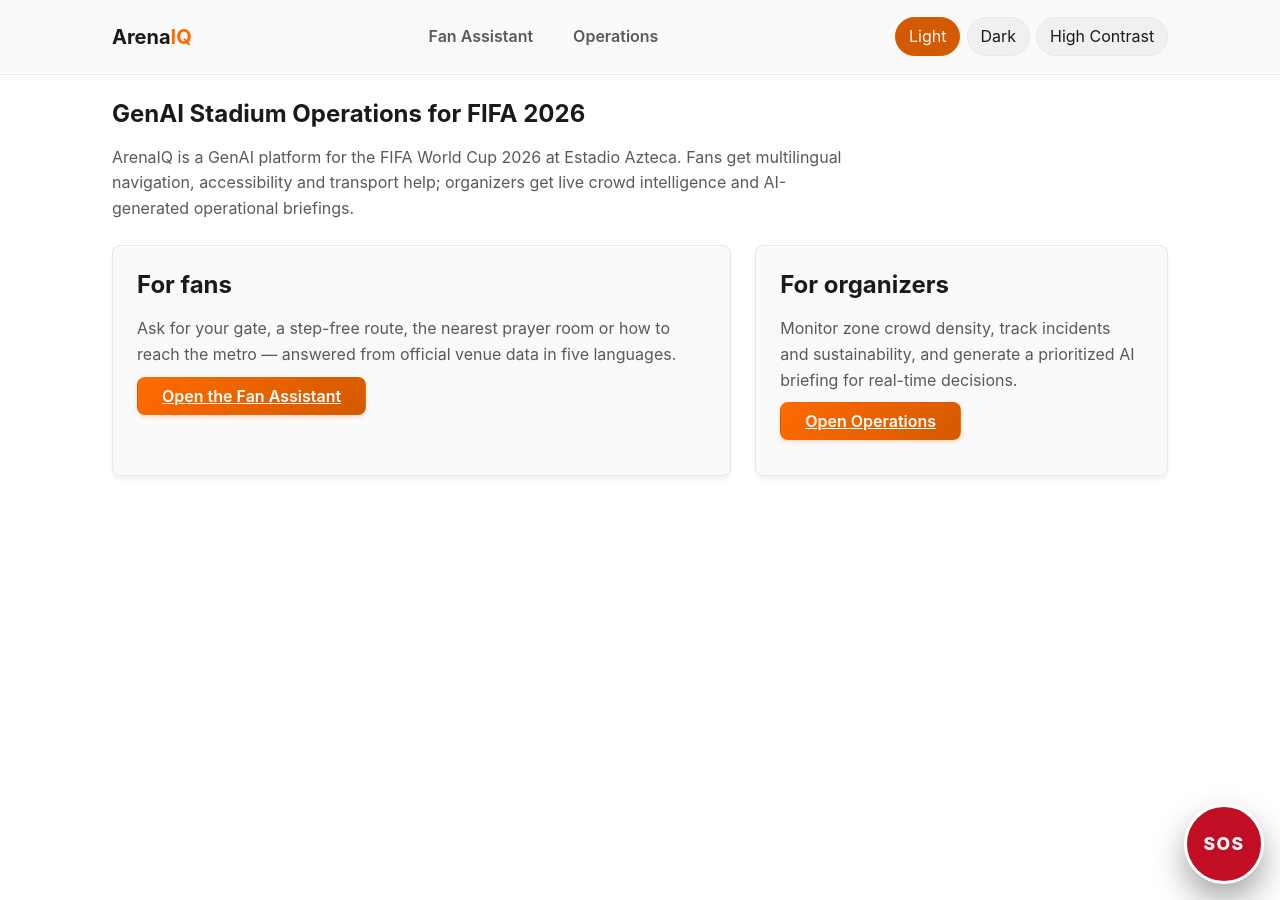
Test case: App routing › lazy-loads the assistant route on navigation
Click the link "Fan Assistant".
click(481, 36)  # box [428, 26, 533, 46]
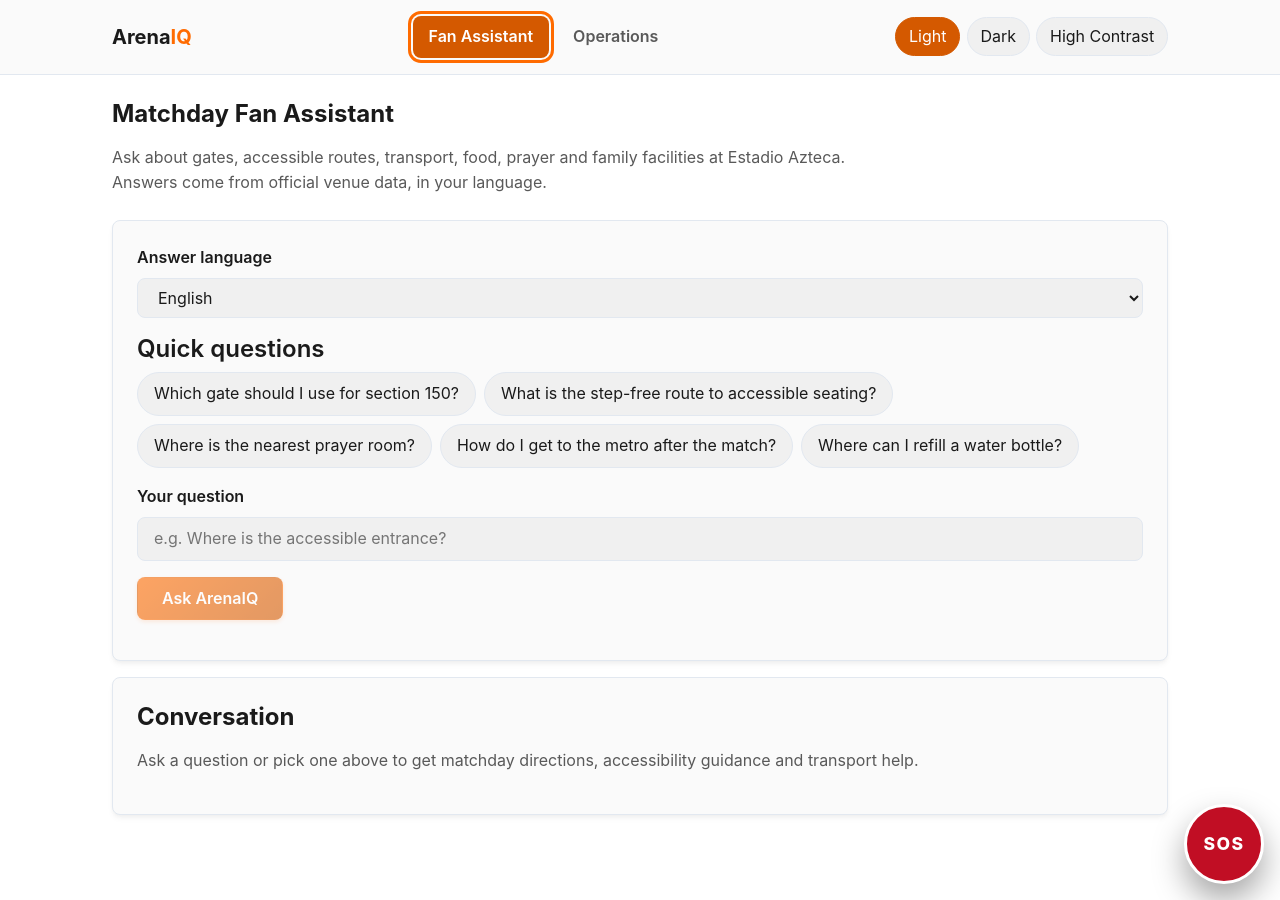
Check: the heading "Matchday Fan Assistant" is shown, box [112, 99, 394, 128]
